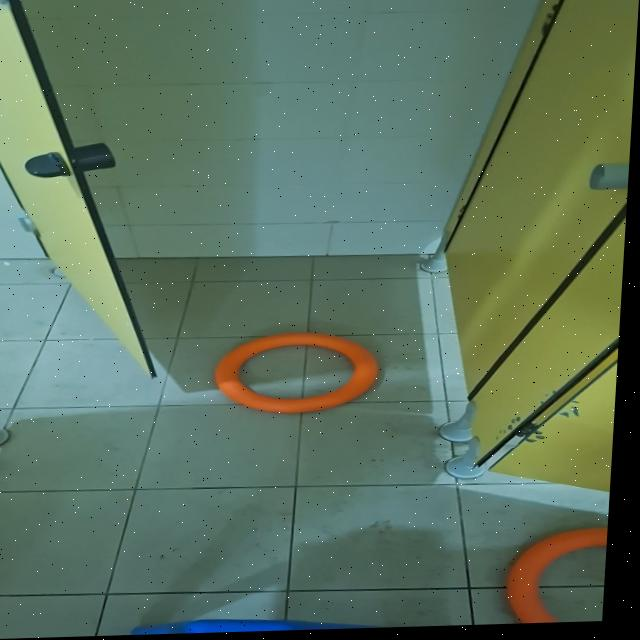note: (216, 331, 387, 418), (511, 530, 613, 626)
